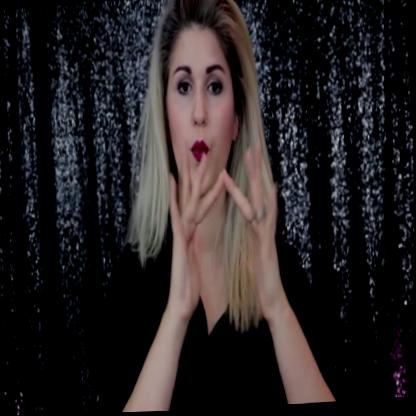Internet: (152, 116, 299, 325)
